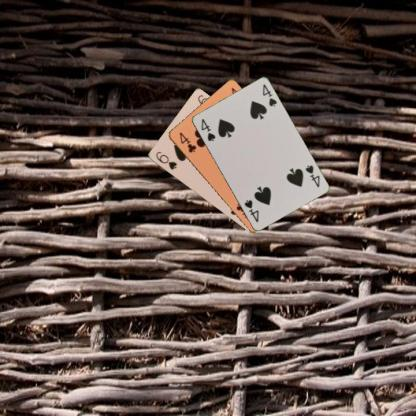4c: (176, 129, 197, 154)
4s: (198, 116, 217, 142), (302, 162, 320, 188)
6s: (153, 149, 178, 171)
